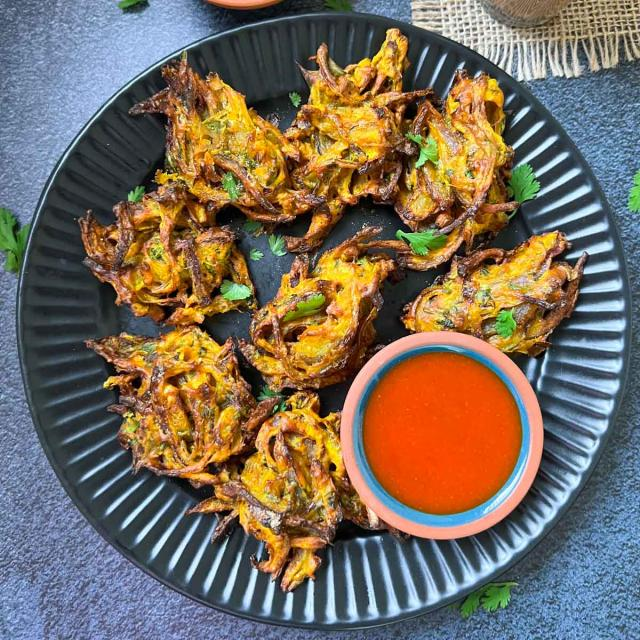BAJI: (80, 35, 597, 592)
